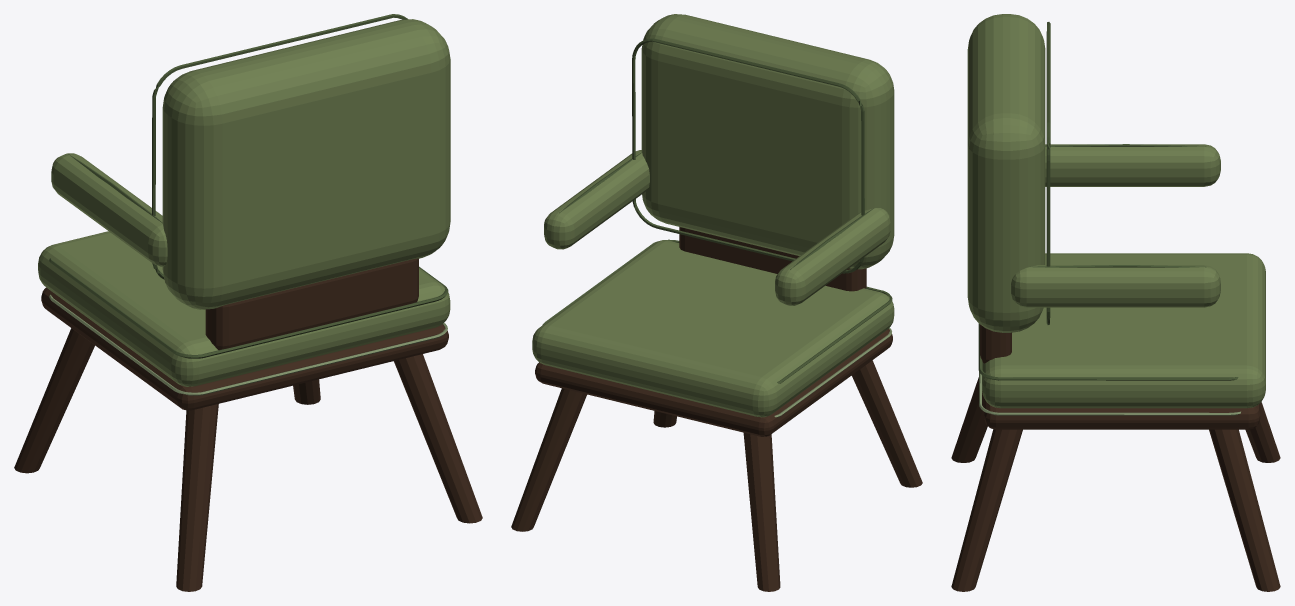
File: chair_desk_olive.fbx
The picture shows the model from 3 angles, left to right: view 1: azimuth 30°, elevation 25°; view 2: azimuth 150°, elevation 25°; view 3: azimuth 270°, elevation 25°; orthographic projection. The views are drawn at different scales.
Parts seen in each view (by area): view 1: chair_desk_olive; view 2: chair_desk_olive; view 3: chair_desk_olive.
Part boxes in pixels (left/top/right/bottom): chair_desk_olive: left=14, top=14, right=482, bottom=591; chair_desk_olive: left=511, top=14, right=922, bottom=591; chair_desk_olive: left=951, top=14, right=1280, bottom=591.
Size of the model in its own units: 0.62 by 0.95 by 0.62.
